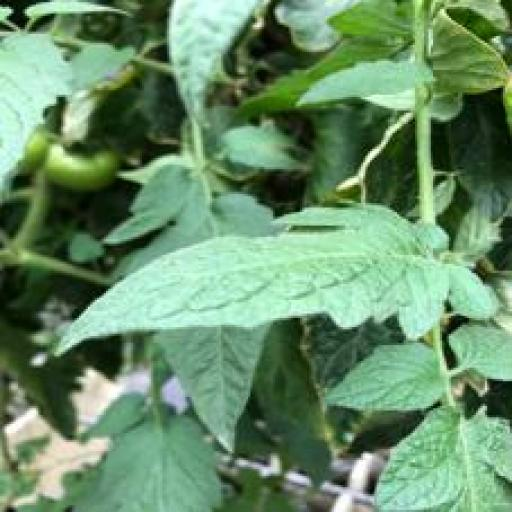Healthy: (56, 199, 448, 356), (318, 338, 444, 413)
